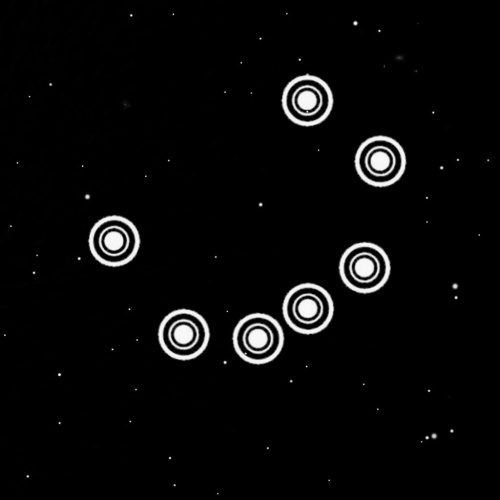corona_borealis: (86, 62, 408, 368)
